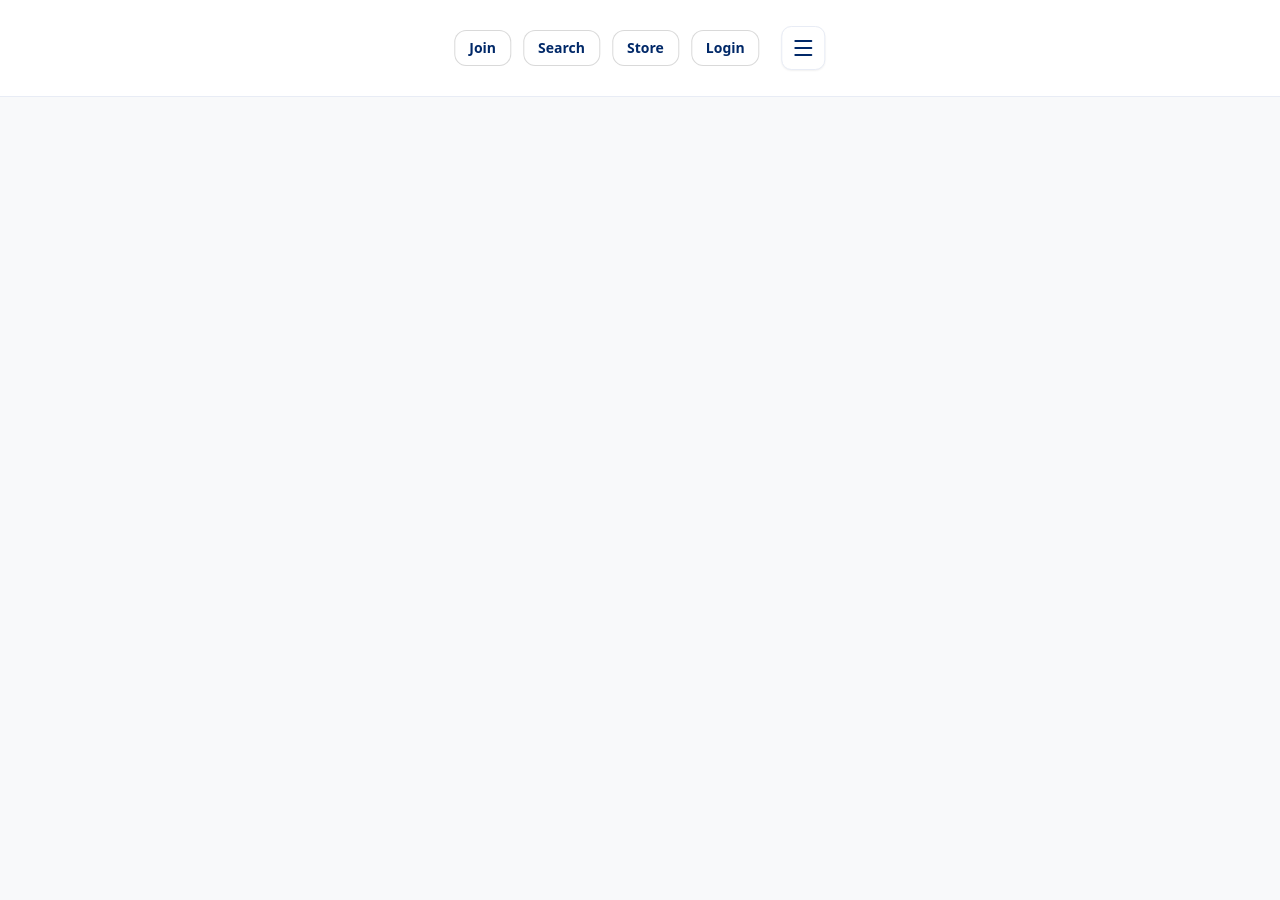
it: Header mobile navigation wiring › closes the open drawer with Escape and restores hamburger focus
The width and height of the screenshot is (1280, 900).
Click the button named "Open menu" at (804, 48), box [782,26,826,70]
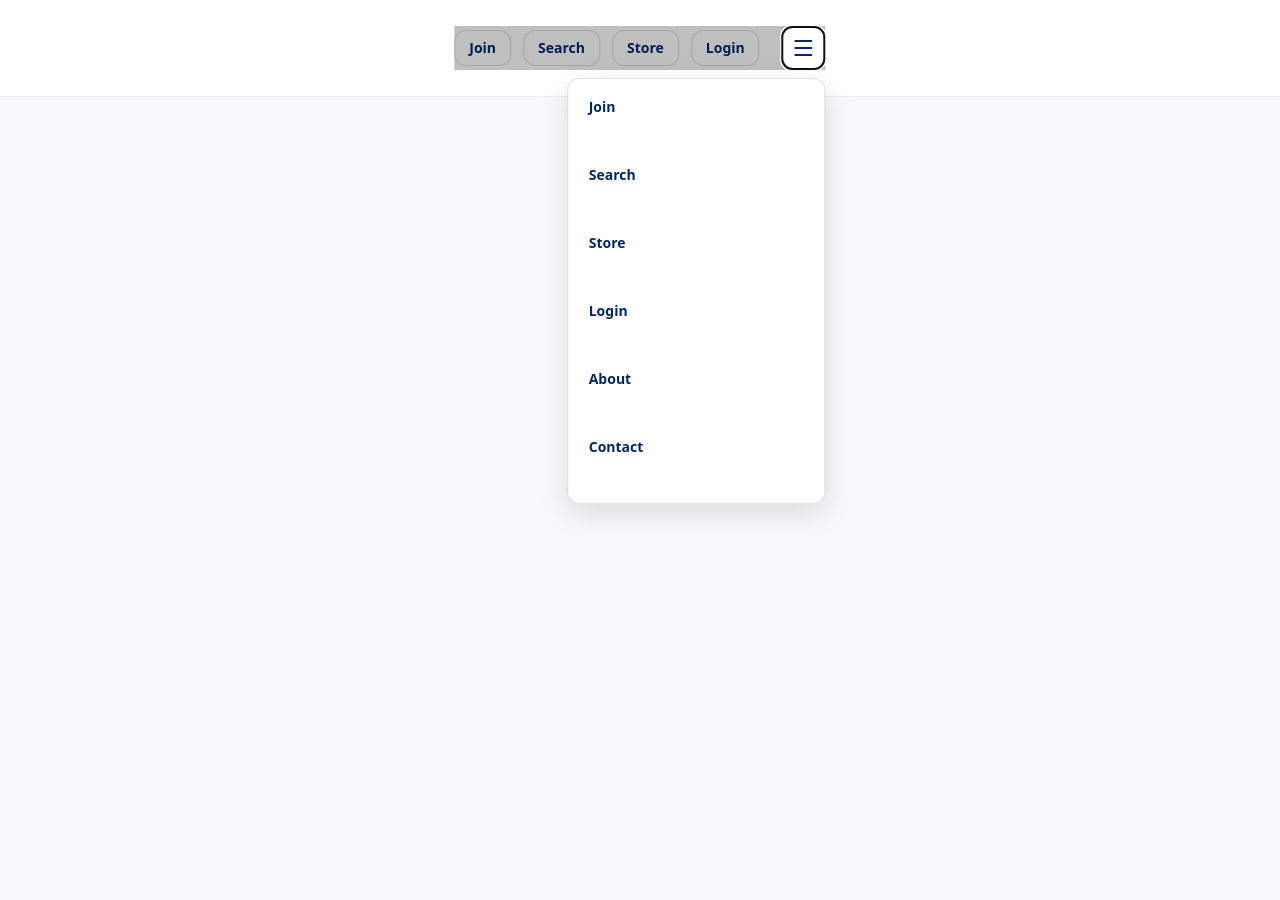
Check: the dialog named "Menu" is shown, box [568,78,826,504]
Press Escape
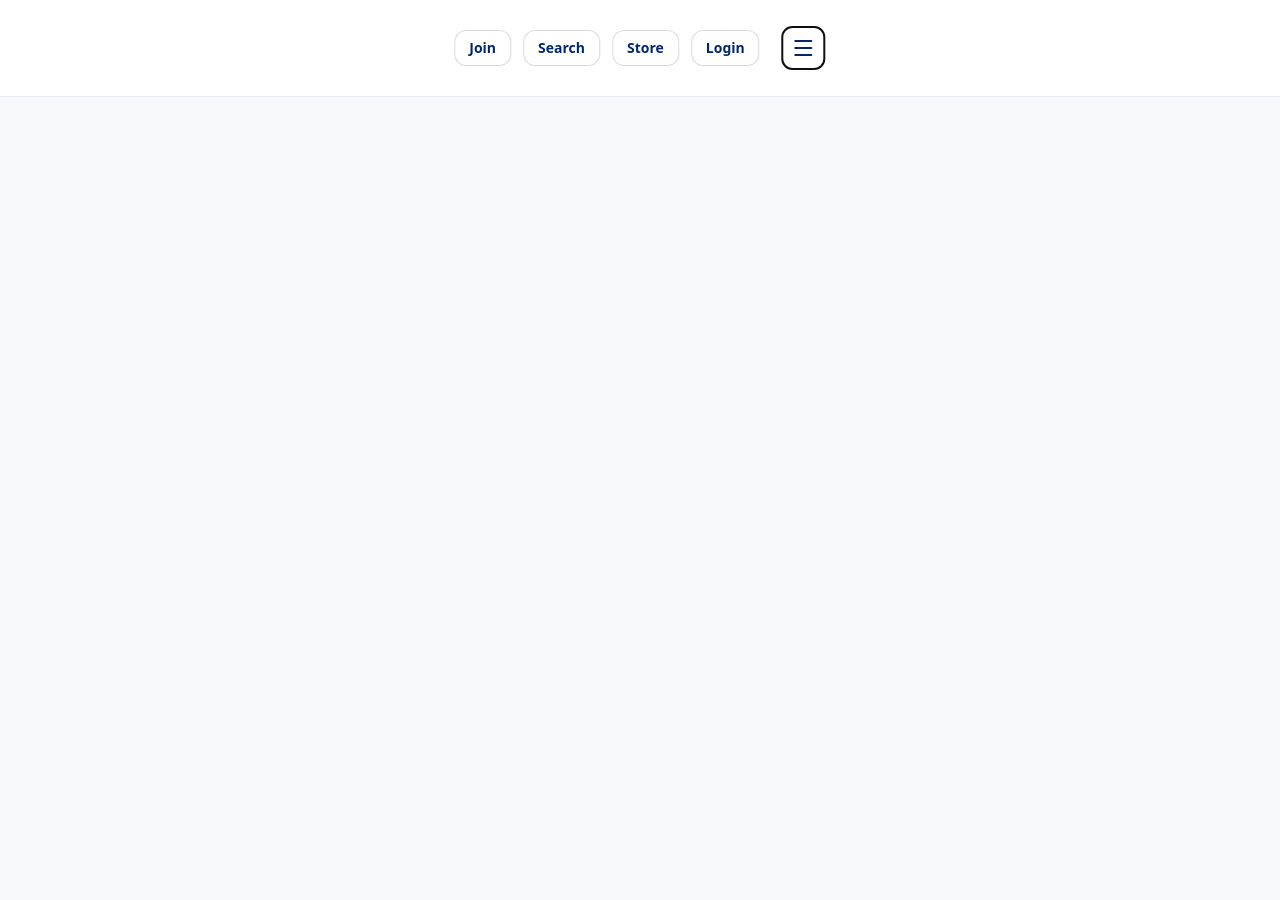
Check: the dialog "Menu" is gone
